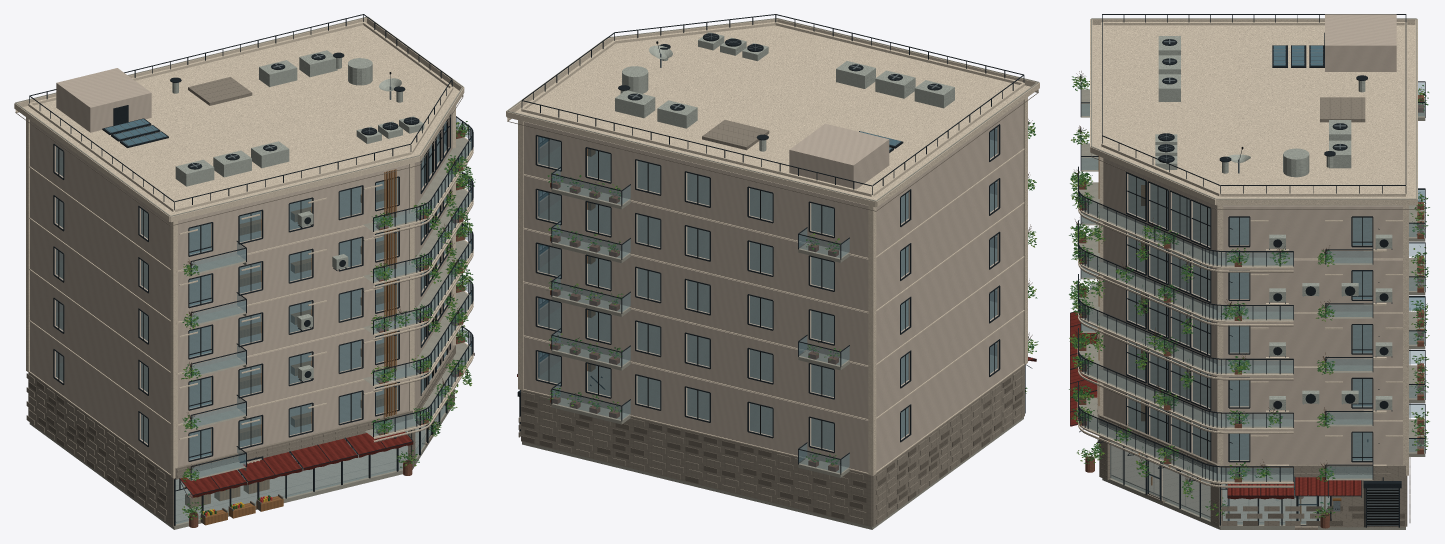
Rendered from HIL04_lod1.glb.
3 renders of one model, left to right at view 1: azimuth 30°, elevation 25°; view 2: azimuth 150°, elevation 25°; view 3: azimuth 270°, elevation 25°, orthographic. The views are drawn at different scales.
Visible parts, largest first — view 1: Facade__plaster, Roof__plaster_trim, Structure__concrete, Facade__tintedglass, Facade__glass, Facade__darkmetal, Facade__stone, Details__darkmetal, Roof__utility, Structure__plaster_trim, Details__stone, Foliage__green (+20 smaller); view 2: Facade__plaster, Roof__plaster_trim, Structure__concrete, Facade__tintedglass, Facade__stone, Details__stone, Facade__darkmetal, Facade__glass, Roof__utility, Details__stone_darker, Structure__plaster_trim, Roof__plaster (+10 smaller); view 3: Roof__plaster_trim, Facade__plaster, Structure__concrete, Facade__glass, Facade__tintedglass, Details__darkmetal, Foliage__green, Details__plaster_trim, Facade__darkmetal, Interior__tile, Facade__stone, Roof__plaster (+19 smaller).
Part boxes in pixels (<box>): Facade__plaster: <box>30,112,452,473</box>; Roof__plaster_trim: <box>14,17,464,222</box>; Structure__concrete: <box>29,137,471,529</box>; Facade__tintedglass: <box>56,121,446,459</box>; Facade__glass: <box>176,118,471,523</box>; Facade__darkmetal: <box>53,114,450,525</box>; Facade__stone: <box>28,345,455,526</box>; Details__darkmetal: <box>179,116,474,497</box>; Roof__utility: <box>172,50,424,186</box>; Structure__plaster_trim: <box>26,106,455,478</box>; Details__stone: <box>26,352,454,520</box>; Foliage__green: <box>182,121,475,520</box>; Facade__plaster: <box>523,100,1023,472</box>; Roof__plaster_trim: <box>506,19,1039,207</box>; Structure__concrete: <box>522,140,1023,529</box>; Facade__tintedglass: <box>538,127,997,450</box>; Facade__stone: <box>521,365,1024,526</box>; Details__stone: <box>518,369,1023,524</box>; Facade__darkmetal: <box>535,124,1025,453</box>; Facade__glass: <box>552,168,849,472</box>; Roof__utility: <box>615,32,954,151</box>; Details__stone_darker: <box>518,377,1023,519</box>; Structure__plaster_trim: <box>518,97,1027,475</box>; Roof__plaster: <box>789,123,889,189</box>; Roof__plaster_trim: <box>1090,19,1417,205</box>; Facade__plaster: <box>1103,158,1402,464</box>; Structure__concrete: <box>1079,89,1425,529</box>; Facade__glass: <box>1081,83,1424,524</box>; Facade__tintedglass: <box>1128,174,1371,460</box>; Details__darkmetal: <box>1070,74,1425,527</box>; Foliage__green: <box>1069,76,1429,518</box>; Details__plaster_trim: <box>1077,186,1403,487</box>; Facade__darkmetal: <box>1123,172,1373,525</box>; Interior__tile: <box>1111,441,1329,522</box>; Facade__stone: <box>1098,328,1407,527</box>; Roof__plaster: <box>1325,14,1396,71</box>.
Size of the model in its own units: 26.72 by 23.31 by 21.5.
Materials: 28 (28 with a texture image).
